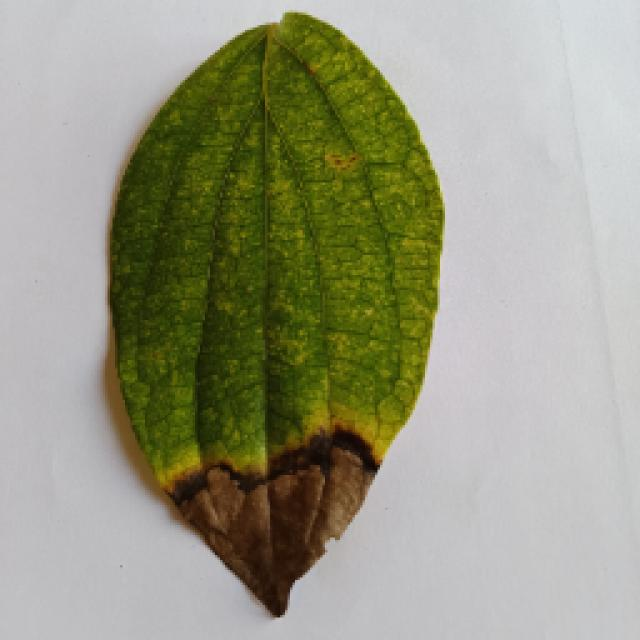footrot: (98, 28, 448, 618)
